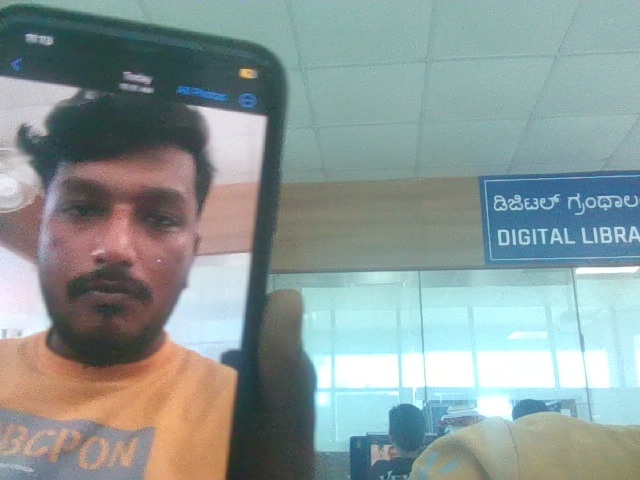fake: (13, 67, 226, 369)
